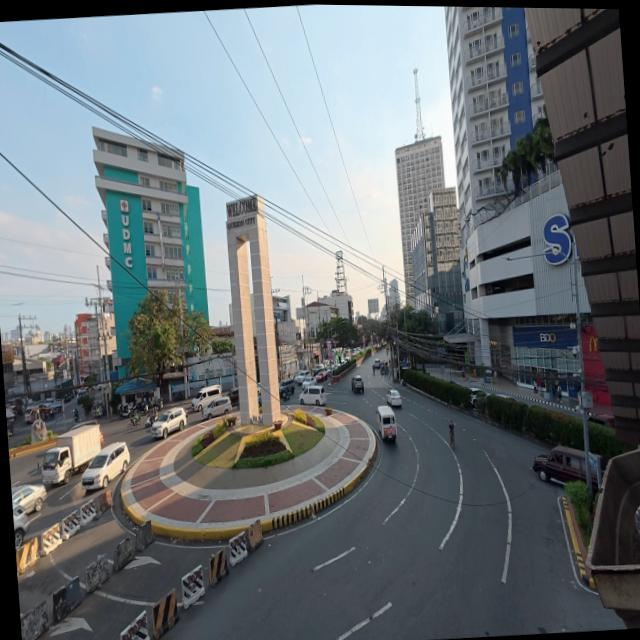car: (82, 443, 130, 490), (533, 446, 586, 483), (151, 408, 187, 437), (11, 484, 46, 512), (72, 419, 103, 447), (13, 505, 29, 549), (202, 396, 232, 419), (588, 414, 615, 427), (470, 388, 489, 405), (279, 378, 295, 395), (387, 390, 402, 407), (351, 375, 364, 393), (25, 407, 39, 422), (229, 387, 240, 406), (294, 371, 310, 384), (496, 393, 517, 402), (302, 376, 315, 389), (315, 370, 327, 382), (77, 390, 87, 404), (314, 364, 325, 375), (44, 398, 54, 407), (374, 360, 380, 368), (7, 432, 9, 439)
motorcycle: (145, 413, 158, 428), (150, 396, 163, 410), (120, 406, 133, 419), (128, 415, 140, 429), (282, 389, 290, 401), (74, 410, 79, 423), (373, 368, 375, 375)
trucks: (42, 424, 101, 485)
vans: (192, 385, 221, 411), (377, 406, 396, 440), (300, 386, 326, 406)
